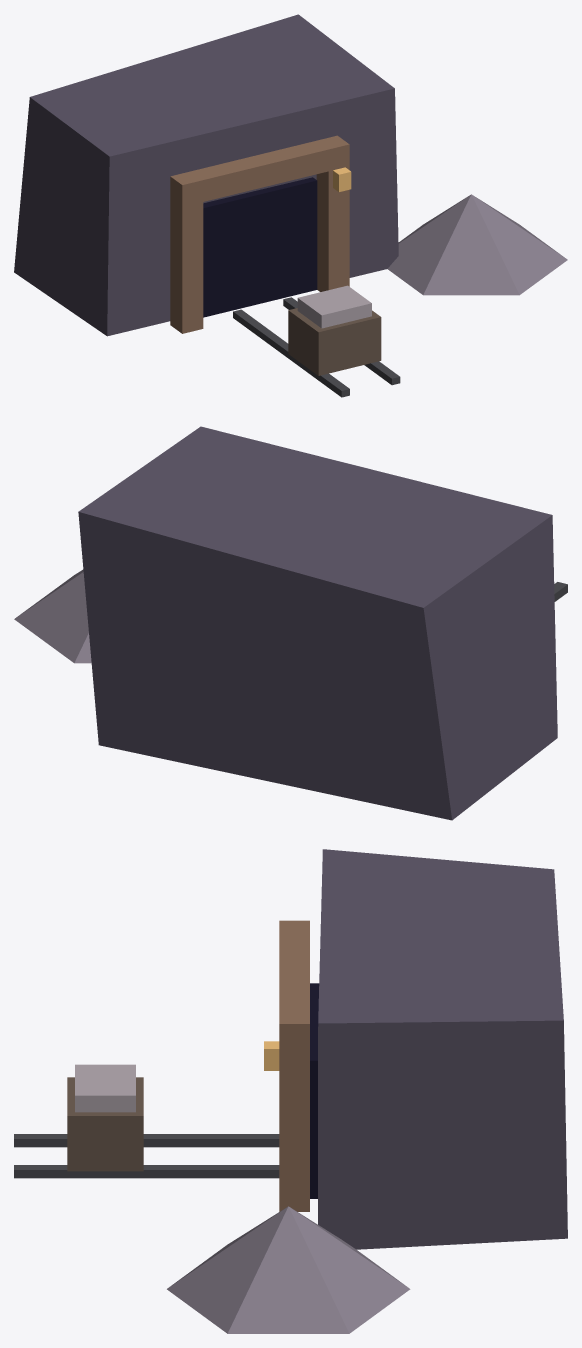
The model's file is mine.glb.
3 renders of one model, top to bottom at view 1: azimuth 30°, elevation 25°; view 2: azimuth 150°, elevation 25°; view 3: azimuth 270°, elevation 25°, orthographic. The views are drawn at different scales.
Parts seen in each view (by area): view 1: rockface, mouth, heap, lintel, detail_cart, timber-1, timber1, detail_ore, detail_rail-1, detail_rail1; view 2: rockface, heap; view 3: rockface, heap, detail_cart, timber1, lintel, detail_rail1, detail_ore, detail_rail-1, mouth.
Boxes of the visible parts, x1,y1,x2,y2 form: rockface: [14, 14, 398, 336]; mouth: [203, 177, 317, 317]; heap: [387, 194, 567, 295]; lintel: [170, 135, 349, 206]; detail_cart: [288, 308, 381, 375]; timber-1: [170, 198, 203, 333]; timber1: [316, 166, 349, 291]; detail_ore: [297, 285, 371, 328]; detail_rail-1: [233, 309, 349, 397]; detail_rail1: [283, 297, 400, 385]; rockface: [78, 426, 557, 820]; heap: [14, 569, 91, 663]; rockface: [318, 849, 567, 1249]; heap: [167, 1206, 410, 1333]; detail_cart: [67, 1077, 143, 1171]; timber1: [279, 1051, 309, 1211]; lintel: [279, 920, 309, 1051]; detail_rail1: [14, 1165, 279, 1178]; detail_ore: [75, 1064, 135, 1112]; detail_rail-1: [14, 1134, 279, 1147]; mouth: [310, 983, 319, 1198].
Size of the model in its own units: 2.05 by 0.829 by 1.82.
